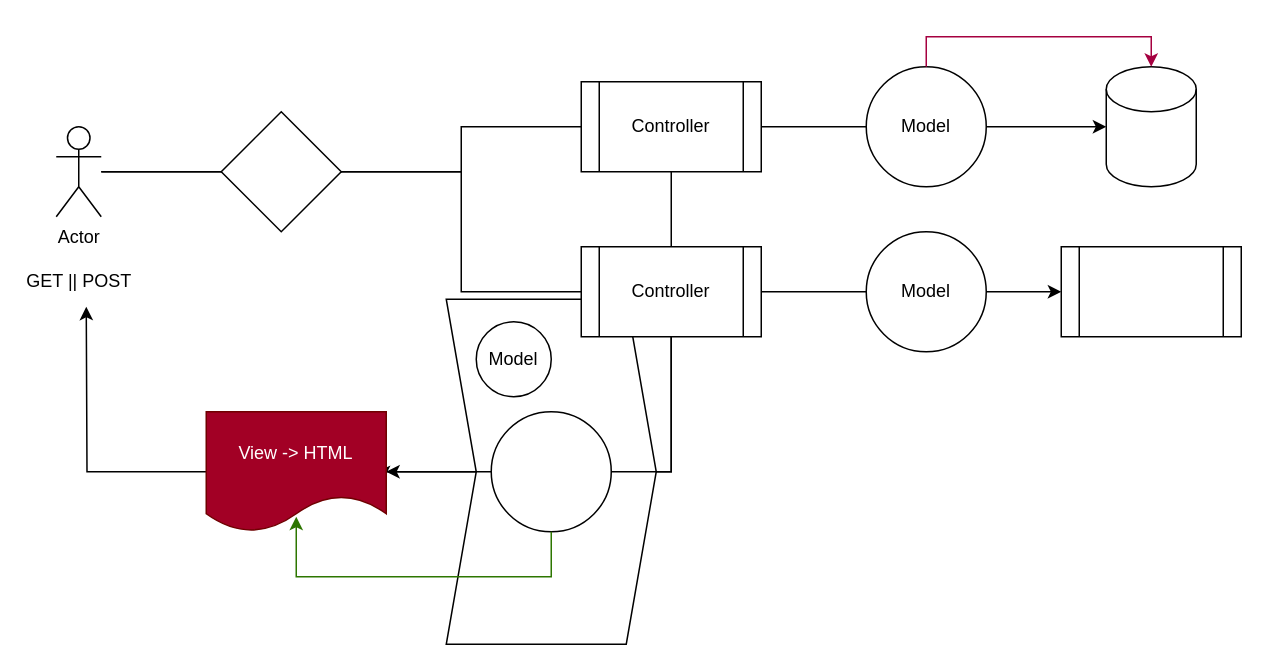
Some shapes in this 1268 by 671 pixel diagram are drawn without their labels. Each missing label, with the centre of its shape:
"Action" belongs at (1150,291).
"DB" belongs at (1150,126).
"Router" belongs at (280,171).
"ViewModel" belongs at (550,471).
